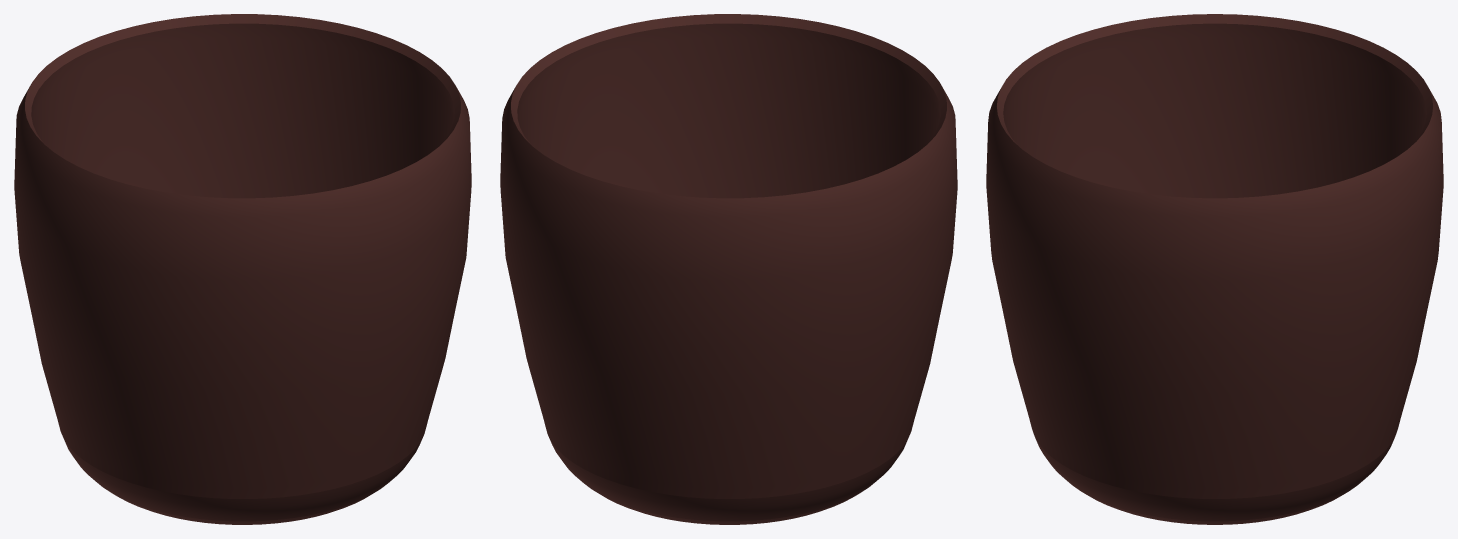
File: cup3.glb
The picture shows the model from 3 angles, left to right: view 1: azimuth 30°, elevation 25°; view 2: azimuth 150°, elevation 25°; view 3: azimuth 270°, elevation 25°; orthographic projection.
Parts seen in each view (by area): view 1: Cup3.001; view 2: Cup3.001; view 3: Cup3.001.
Part boxes in pixels (left/top/right/bottom): Cup3.001: left=14, top=14, right=471, bottom=524; Cup3.001: left=500, top=14, right=957, bottom=524; Cup3.001: left=986, top=14, right=1443, bottom=524.
Size of the model in its own units: 3.59 by 3.13 by 3.59.
